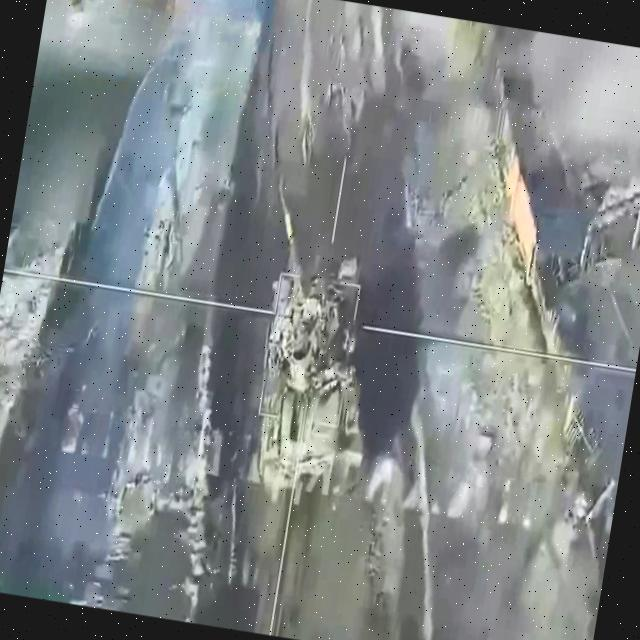MBT: (223, 169, 406, 513)
